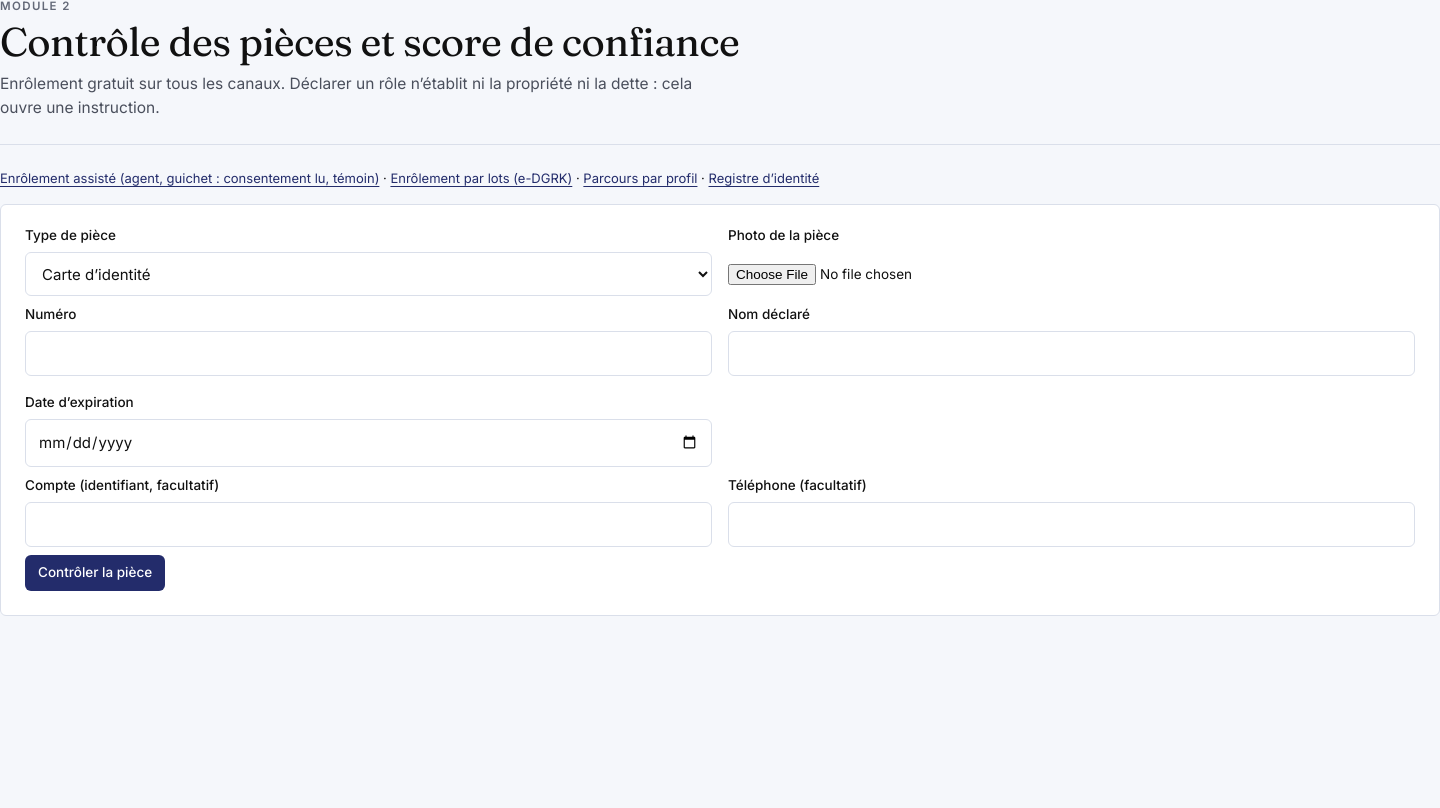
Test case: Module 2 — lecture automatique et contrôle des pièces › écran : score de confiance expliqué, cas à risque listés pour revue humaine
This screenshot has width=1440, height=808.
Type "CD1234567" into the field labelled "Numéro" at (368, 354), box [25,331,712,376]
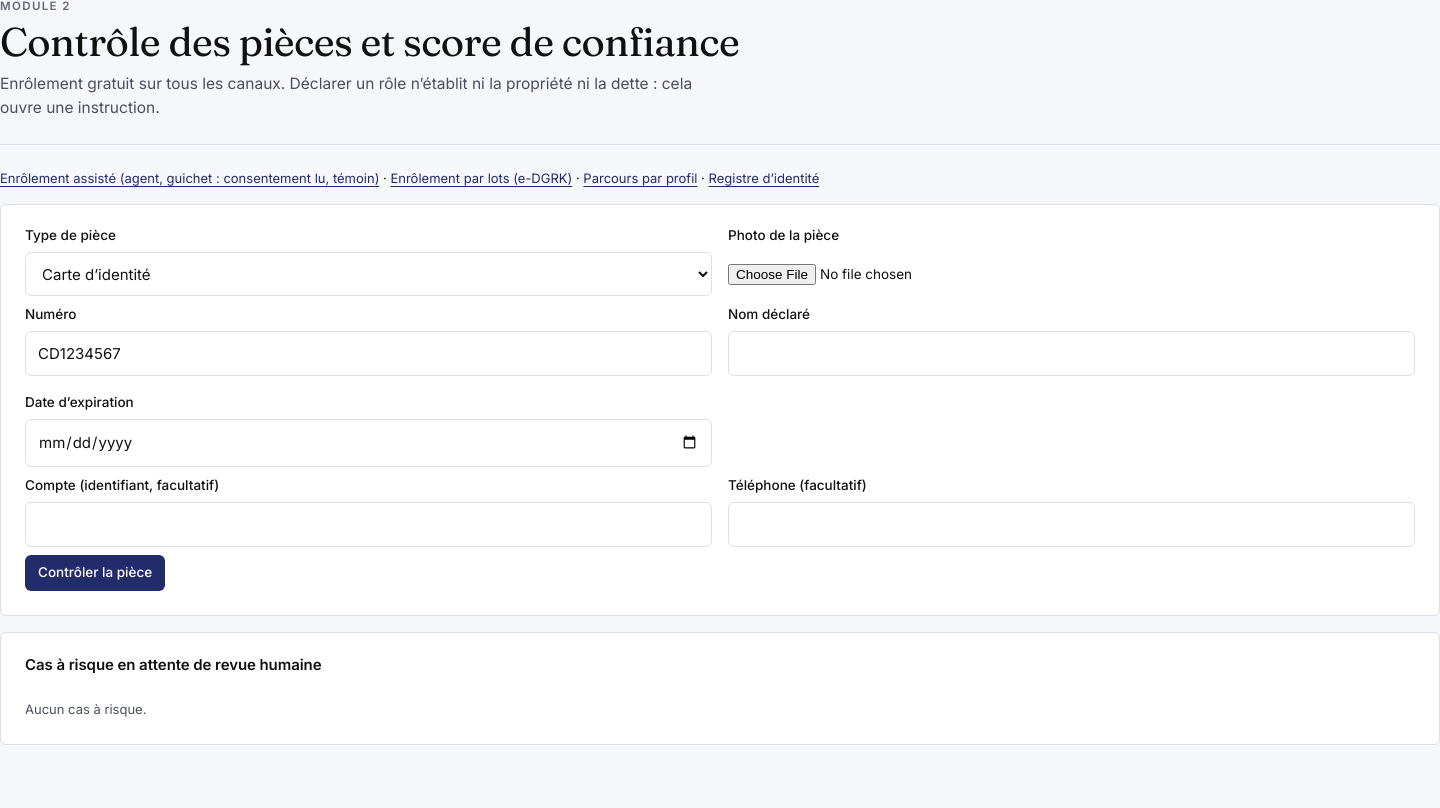
Type "Mbuyi Kalala" into the field labelled "Nom déclaré" at (1072, 354), box [728,331,1415,376]
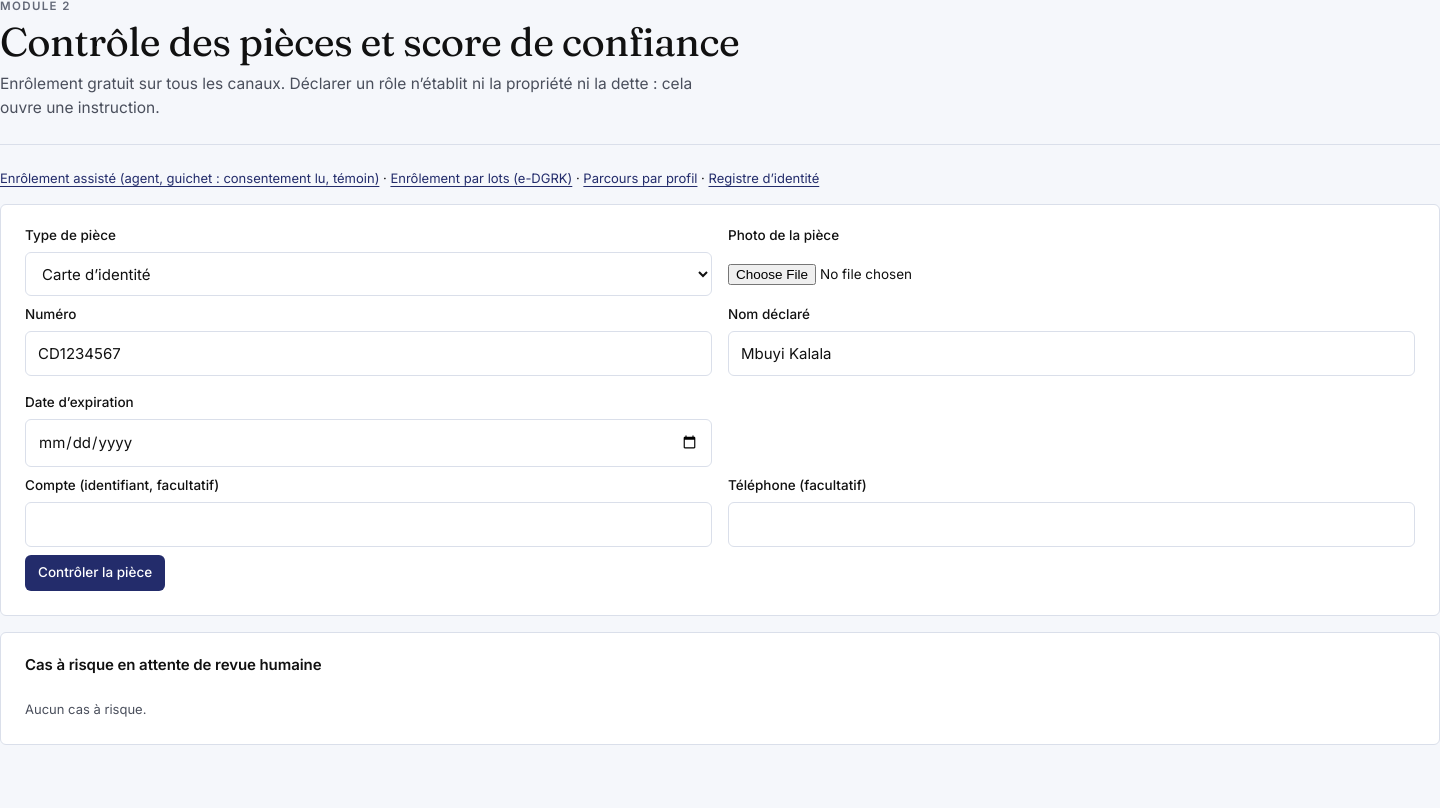
Click the button "Contrôler la pièce" at (95, 573), box [25,555,165,591]
(page scrolled)
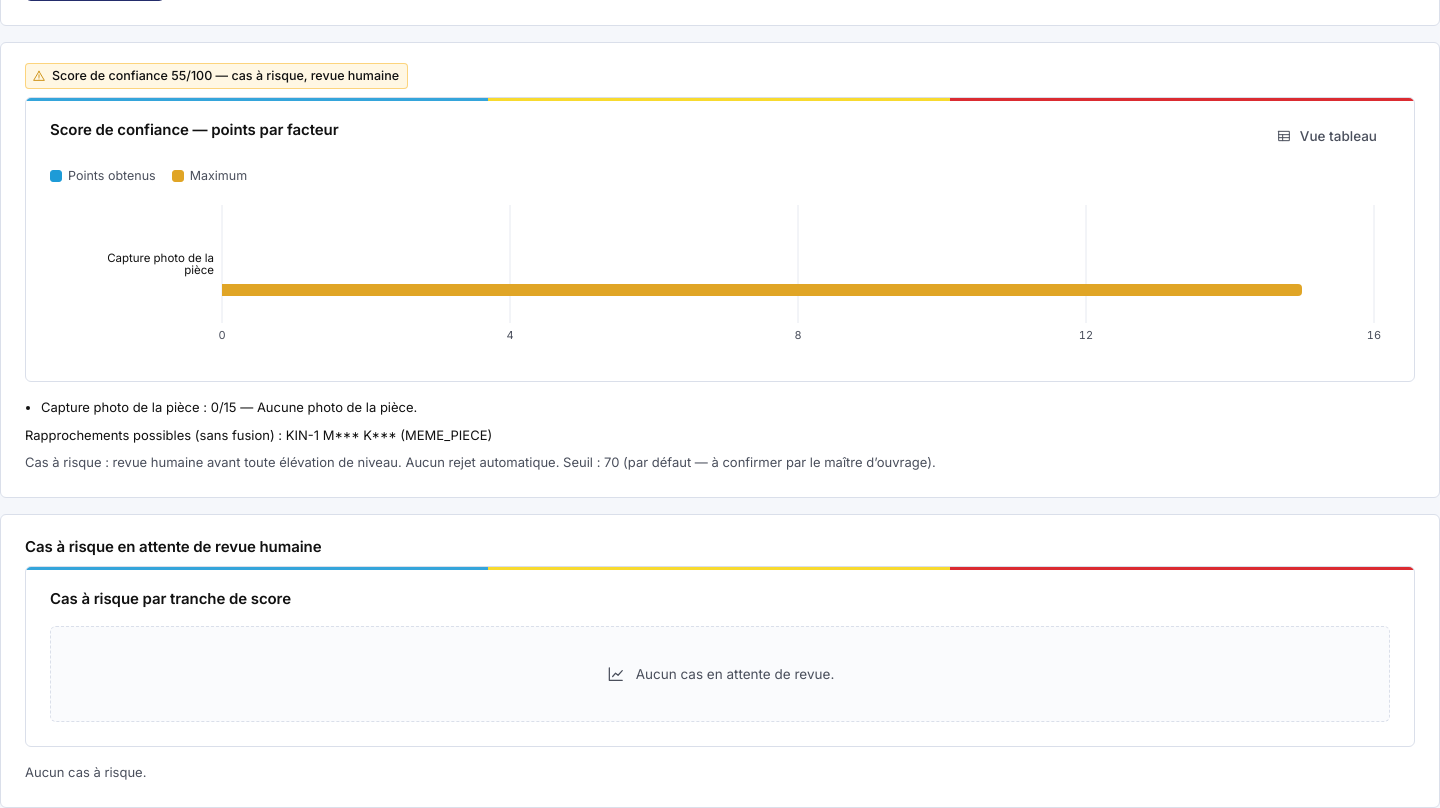
expect the text "Aucun cas à risque." is shown: met, box [25,764,146,780]
expect the text "Score de confiance 55/100 — cas à risque, revue humaine" is shown: met, box [52,66,399,86]
expect the text "Rapprochements possibles (sans fusion)" is shown: met, box [25,427,286,443]
